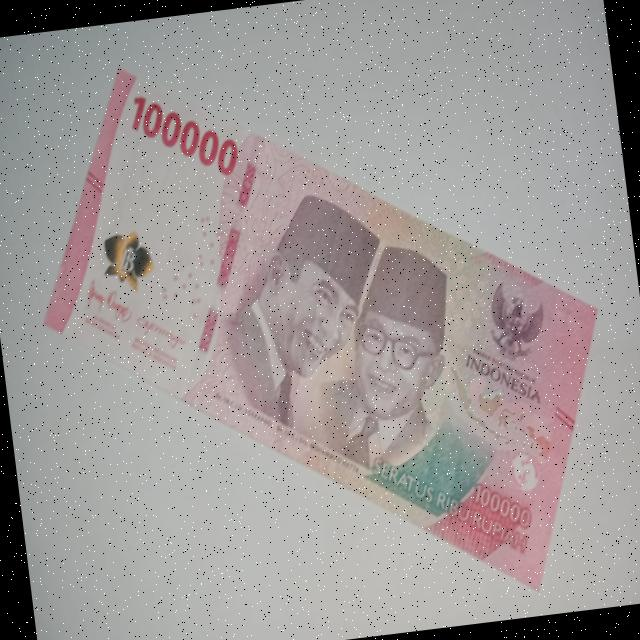100K: (3, 11, 629, 640)
